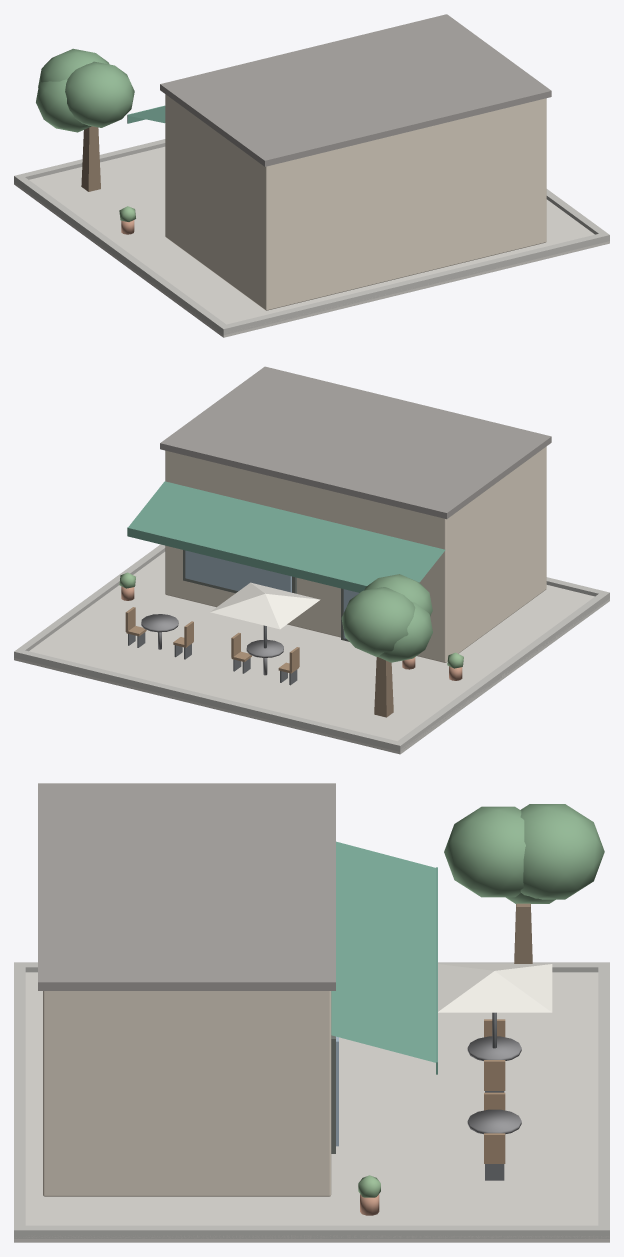
Rendered from mapa.cafe.fbx.
3 renders of one model, top to bottom at view 1: azimuth 30°, elevation 25°; view 2: azimuth 150°, elevation 25°; view 3: azimuth 270°, elevation 25°, orthographic. The views are drawn at different scales.
Visible parts, largest first — view 1: Café, Techo, Vereda, Solera.001, Copa.001, Solera.003, Copa, Copa.002, Tronco, Solera, Solera.002; view 2: Vereda, Techo, Café, Toldo, Solera, Copa.002, Quitasol, Solera.003, Vidrio, Faldón del toldo, Solera.002, Copa (+4 smaller); view 3: Vereda, Techo, Café, Toldo, Solera.002, Copa.002, Copa.001, Quitasol, Solera, Solera.001, Mesa, Mesa.001 (+4 smaller).
Part boxes in pixels (x1,y1,x2,y2): Café: (165,94,546,310); Techo: (160,14,551,166); Vereda: (14,146,609,337); Solera.001: (219,232,609,335); Copa.001: (65,61,134,127); Solera.003: (14,174,230,334); Copa: (36,79,91,132); Copa.002: (38,48,109,87); Tronco: (81,126,100,191); Solera: (14,139,165,184); Solera.002: (546,189,608,242); Vereda: (14,552,609,754); Techo: (160,366,551,519); Café: (165,446,546,662); Toldo: (128,481,445,585); Solera: (14,650,404,751); Copa.002: (341,587,415,656); Quitasol: (210,582,320,629); Solera.003: (393,591,609,751); Vidrio: (185,550,291,592); Faldón del toldo: (127,527,367,592); Solera.002: (15,544,165,652); Copa: (377,602,432,662); Vereda: (14,972,609,1242); Techo: (38,783,335,990); Café: (43,991,331,1196); Toldo: (331,841,435,1062); Solera.002: (14,1225,609,1238); Copa.002: (520,804,604,899); Copa.001: (444,806,525,897); Quitasol: (438,964,552,1012); Solera: (598,962,609,1238); Solera.001: (14,962,25,1238); Mesa: (467,1109,521,1134); Mesa.001: (467,1036,521,1060).
Bounding box in the file's own units: 3.3 × 1.29 × 3.1.
